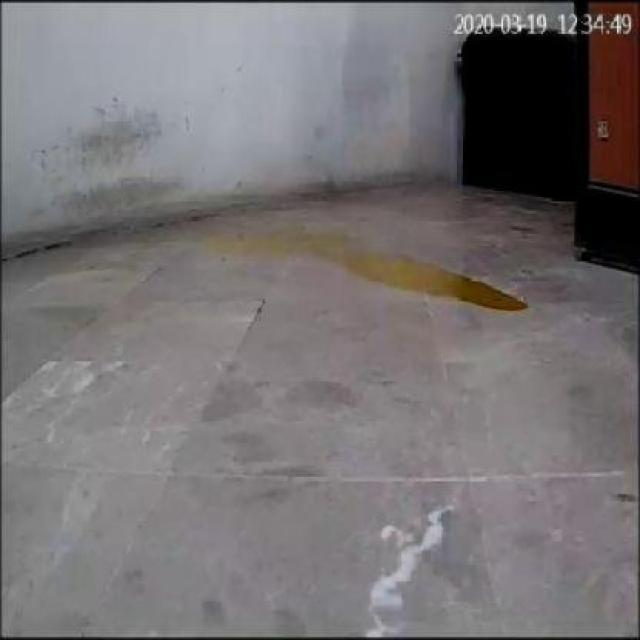spillage: (199, 228, 528, 312)
